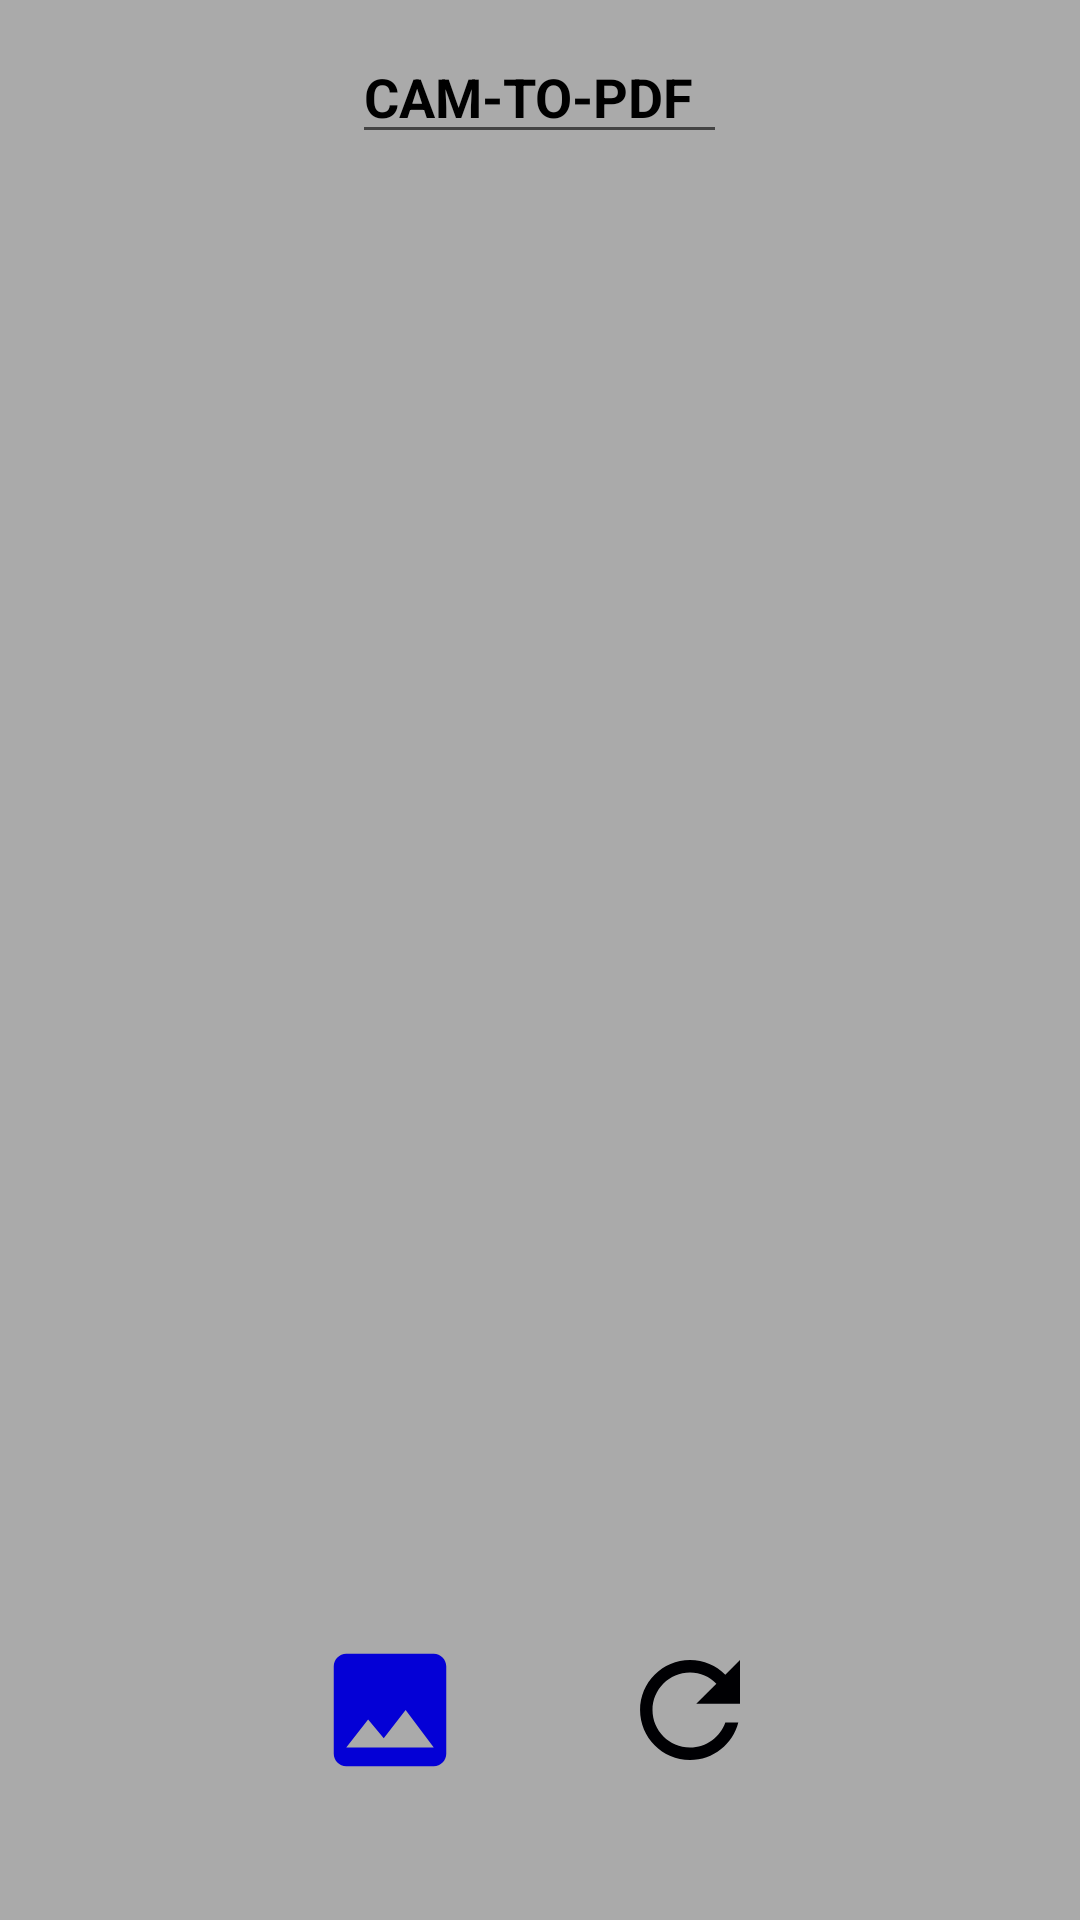

Where icons sit on this 1080×1920 app screen, as (x1, y1, x2, y2):
refresh: (640, 1660, 740, 1760)
